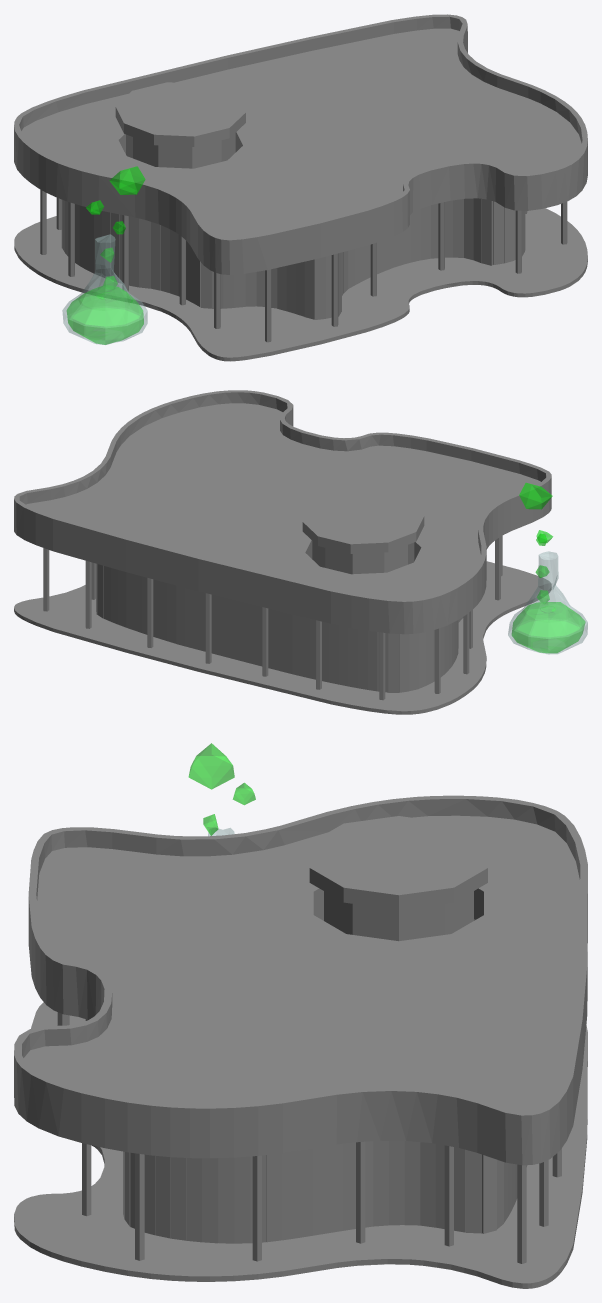
Rendered from SM_Laboratorio.fbx.
3 renders of one model, top to bottom at view 1: azimuth 30°, elevation 25°; view 2: azimuth 150°, elevation 25°; view 3: azimuth 270°, elevation 25°, orthographic. The views are drawn at different scales.
Parts seen in each view (by area): view 1: Laboratorio, Probeta; view 2: Laboratorio, Probeta; view 3: Laboratorio, Probeta.
Part boxes in pixels (<box>): Laboratorio: <box>14,14,587,361</box>; Probeta: <box>62,166,147,344</box>; Laboratorio: <box>14,390,551,714</box>; Probeta: <box>508,483,587,654</box>; Laboratorio: <box>14,795,587,1288</box>; Probeta: <box>188,743,255,836</box>.
Bounding box in the file's own units: 684 × 217 × 474.
